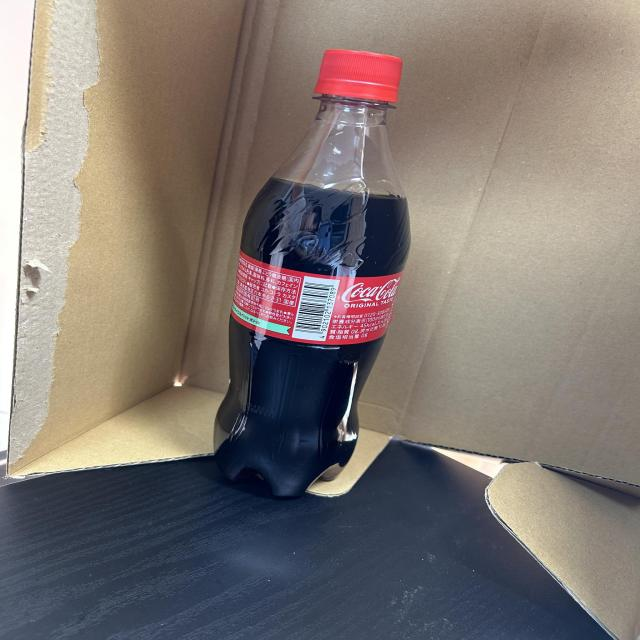high: (214, 50, 410, 497)
